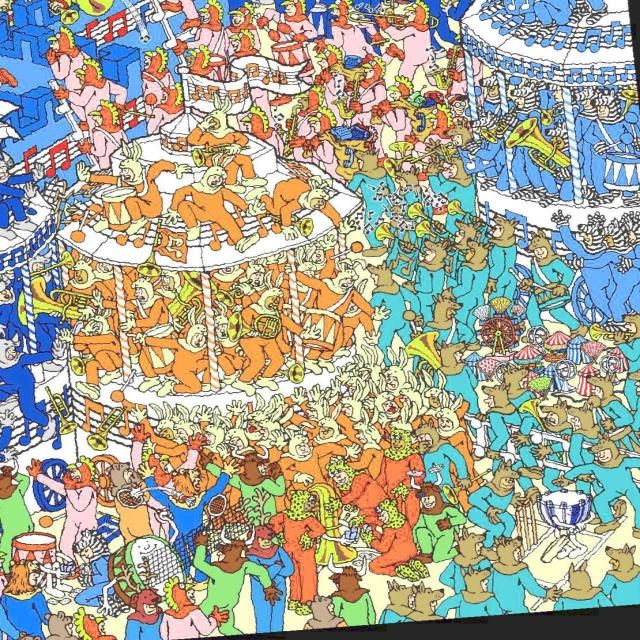waldo: (445, 93, 468, 115)
